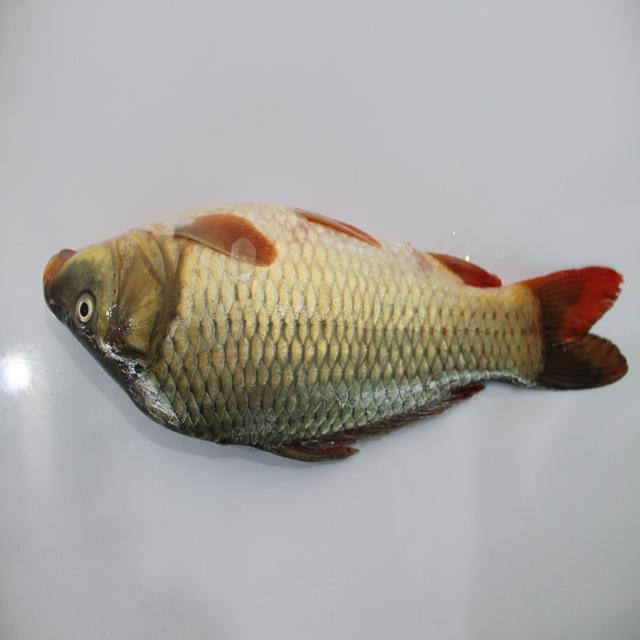CommonCarp: (34, 178, 640, 471)
